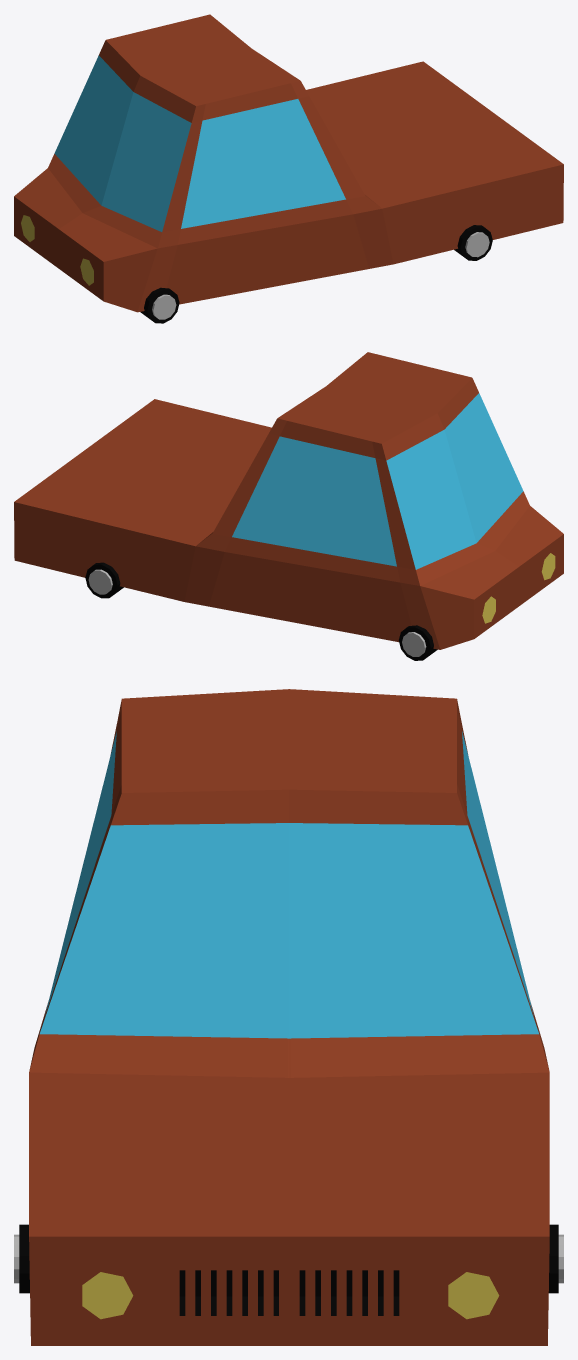
File: carmodel2.fbx
3 views of the same model, one above another, from view 1: azimuth 30°, elevation 25°; view 2: azimuth 150°, elevation 25°; view 3: azimuth 270°, elevation 25° (orthographic). The views are drawn at different scales.
Parts seen in each view (by area): view 1: Cube; view 2: Cube; view 3: Cube.
Boxes of the visible parts, left/top/right/bottom form: Cube: left=14, top=14, right=563, bottom=323; Cube: left=14, top=352, right=563, bottom=660; Cube: left=14, top=689, right=563, bottom=1345.
Size of the model in its own units: 556 by 239 by 328.
